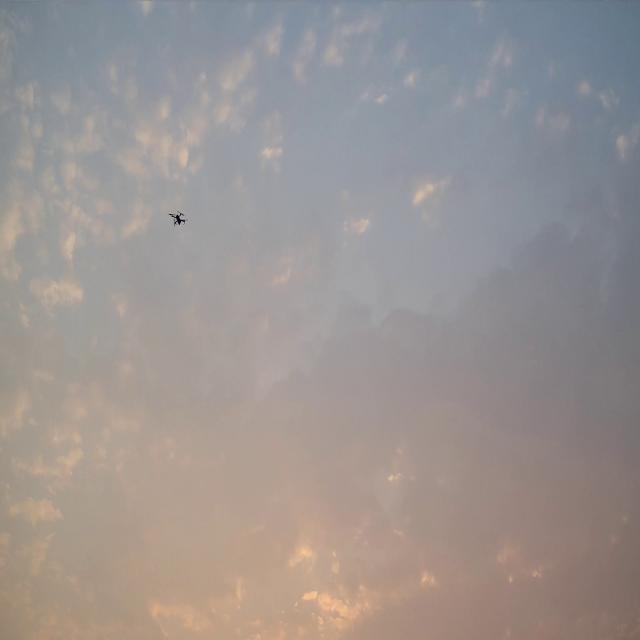drone: (168, 210, 188, 227)
